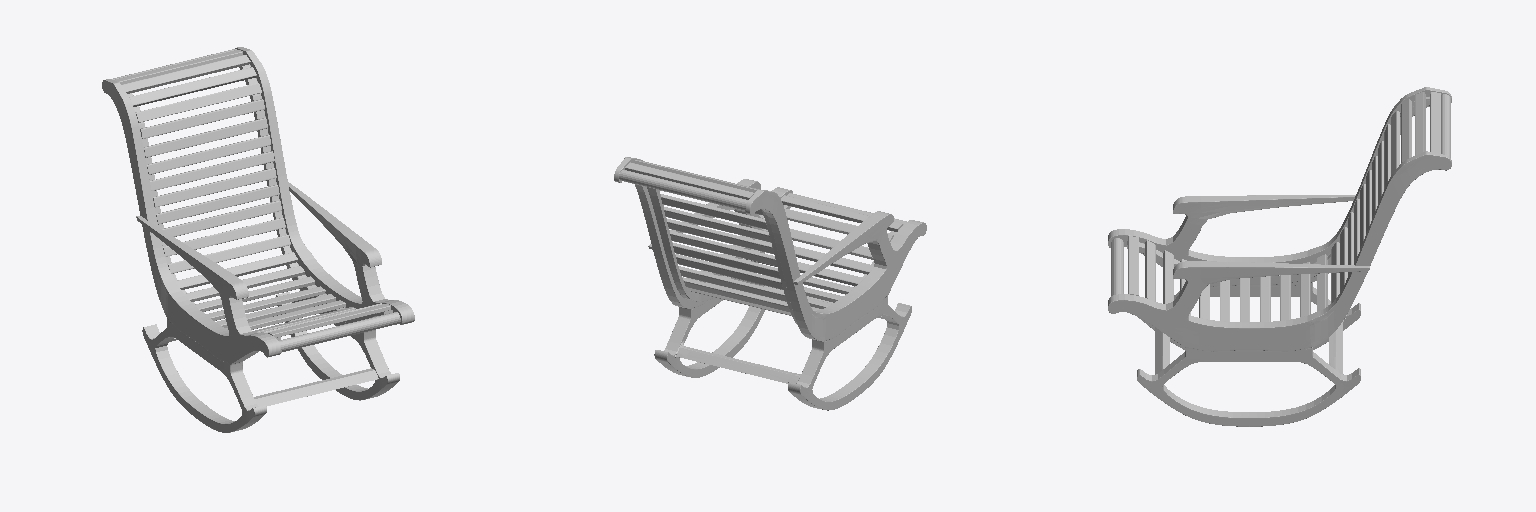
The model's file is chair.obj.
3 renders of one model, left to right at view 1: azimuth 30°, elevation 25°; view 2: azimuth 150°, elevation 25°; view 3: azimuth 270°, elevation 25°, orthographic.
Visible parts, largest first — view 1: Плоскость_Плоскость.001, Куб.024_Куб.025, Куб.003_Куб.004, Куб.004_Куб.005, Куб.005_Куб.006, Куб.007_Куб.008, Куб.008_Куб.009, Куб.010_Куб.011, Куб.006_Куб.007, Куб.009_Куб.010, Куб.002_Куб.003, Куб.011_Куб.012 (+10 smaller); view 2: Плоскость_Плоскость.001, Куб, Куб.001_Куб.002, Куб.010_Куб.011, Куб.007_Куб.008, Куб.011_Куб.012, Куб.006_Куб.007, Куб.008_Куб.009, Куб.009_Куб.010, Куб.012_Куб.013, Куб.013_Куб.014, Куб.025_Куб.001 (+5 smaller); view 3: Плоскость_Плоскость.001, Куб.024_Куб.025, Куб.001_Куб.002, Куб.002_Куб.003, Куб.003_Куб.004, Куб.025_Куб.001, Куб.023_Куб.024, Куб, Куб.022_Куб.023.
Part boxes in pixels (x1,y1,x2,y2): Плоскость_Плоскость.001: (102, 47, 414, 432); Куб.024_Куб.025: (279, 312, 400, 351); Куб.003_Куб.004: (130, 67, 256, 106); Куб.004_Куб.005: (136, 83, 261, 122); Куб.005_Куб.006: (140, 99, 264, 138); Куб.007_Куб.008: (144, 118, 267, 157); Куб.008_Куб.009: (150, 151, 274, 190); Куб.010_Куб.011: (156, 185, 279, 224); Куб.006_Куб.007: (147, 135, 270, 174); Куб.009_Куб.010: (153, 168, 276, 207); Куб.002_Куб.003: (122, 55, 250, 93); Куб.011_Куб.012: (162, 201, 281, 236); Плоскость_Плоскость.001: (614, 157, 926, 410); Куб: (619, 170, 747, 210); Куб.001_Куб.002: (625, 162, 753, 199); Куб.010_Куб.011: (672, 242, 779, 278); Куб.007_Куб.008: (661, 194, 767, 229); Куб.011_Куб.012: (675, 254, 782, 289); Куб.006_Куб.007: (664, 207, 770, 242); Куб.008_Куб.009: (667, 219, 773, 253); Куб.009_Куб.010: (670, 231, 776, 265); Куб.012_Куб.013: (679, 266, 786, 301); Куб.013_Куб.014: (682, 277, 790, 312); Куб.025_Куб.001: (781, 195, 902, 231); Плоскость_Плоскость.001: (1108, 87, 1451, 426); Куб.024_Куб.025: (1111, 238, 1123, 295); Куб.001_Куб.002: (1430, 92, 1440, 153); Куб.002_Куб.003: (1415, 92, 1425, 155); Куб.003_Куб.004: (1401, 99, 1411, 162); Куб.025_Куб.001: (1128, 236, 1138, 295); Куб.023_Куб.024: (1145, 240, 1155, 301); Куб: (1441, 94, 1450, 157); Куб.022_Куб.023: (1163, 250, 1173, 303).
Size of the model in its own units: 1.62 by 2.79 by 3.22.